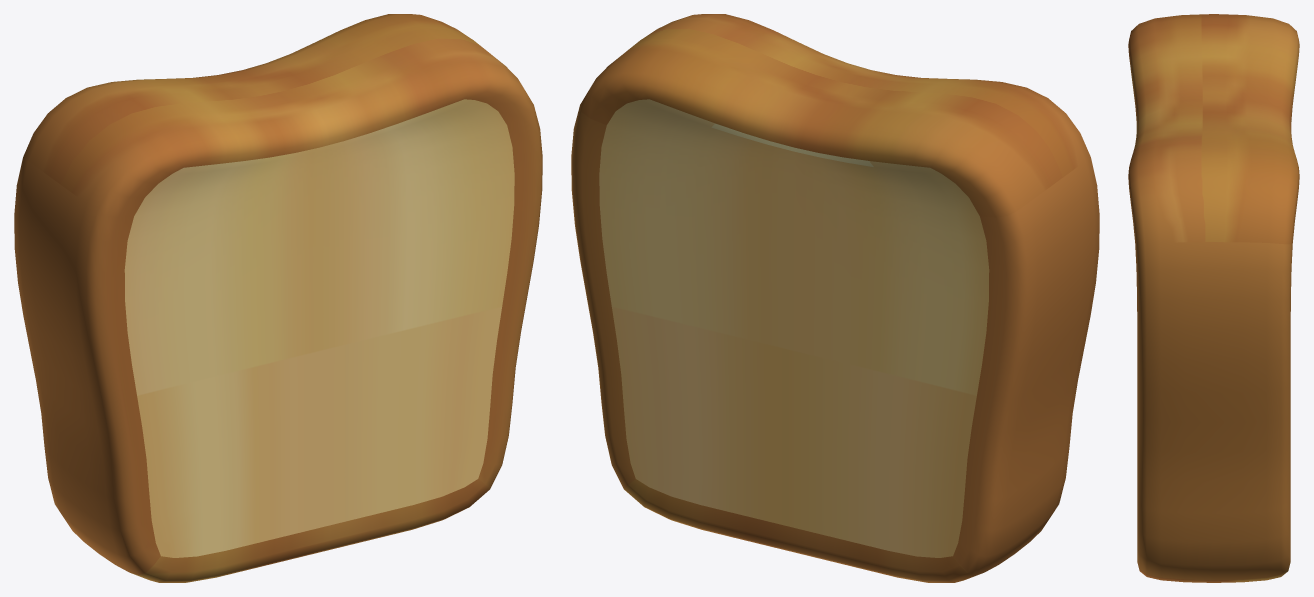
File: toasted bread full.fbx
The picture shows the model from 3 angles, left to right: view 1: azimuth 30°, elevation 25°; view 2: azimuth 150°, elevation 25°; view 3: azimuth 270°, elevation 25°; orthographic projection. The views are drawn at different scales.
Parts seen in each view (by area): view 1: bread8; view 2: bread8; view 3: bread8.
Boxes of the visible parts, x1,y1,x2,y2 form: bread8: [14, 14, 542, 582]; bread8: [571, 14, 1099, 582]; bread8: [1128, 14, 1299, 582].
Bounding box in the file's own units: 44.59 × 42.26 × 15.23.
4 materials, 4 textured.
